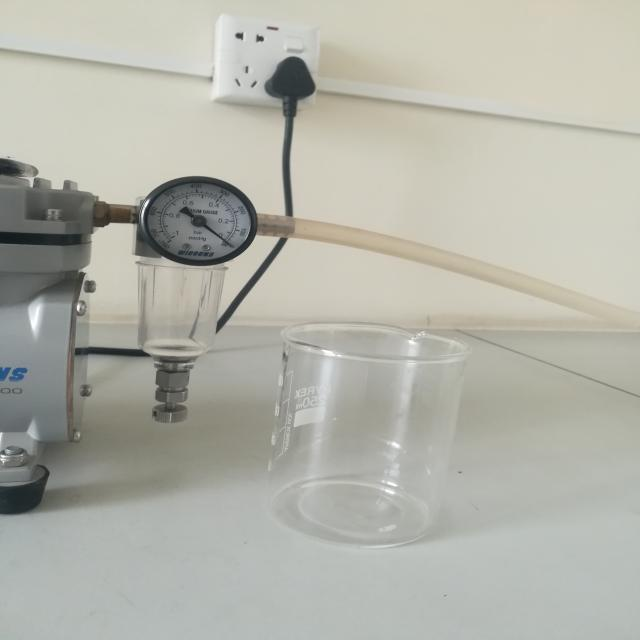Beaker: (252, 297, 492, 571)
